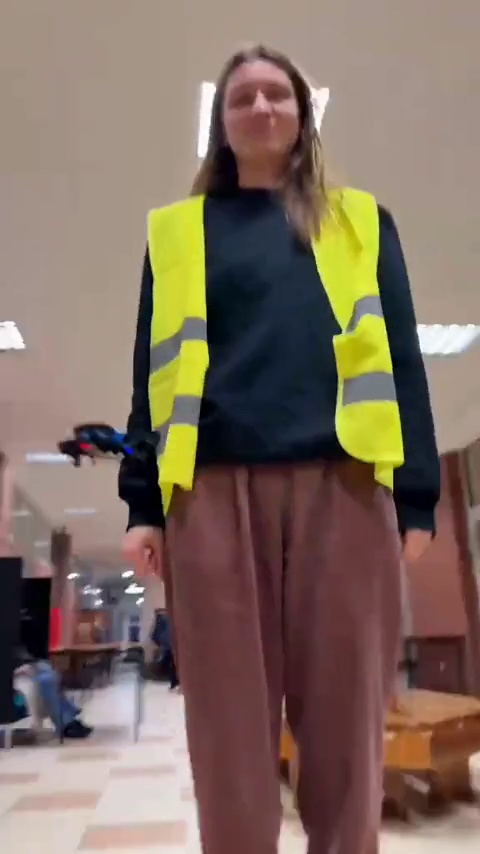drone: (54, 423, 159, 452)
vest: (128, 61, 439, 841)
